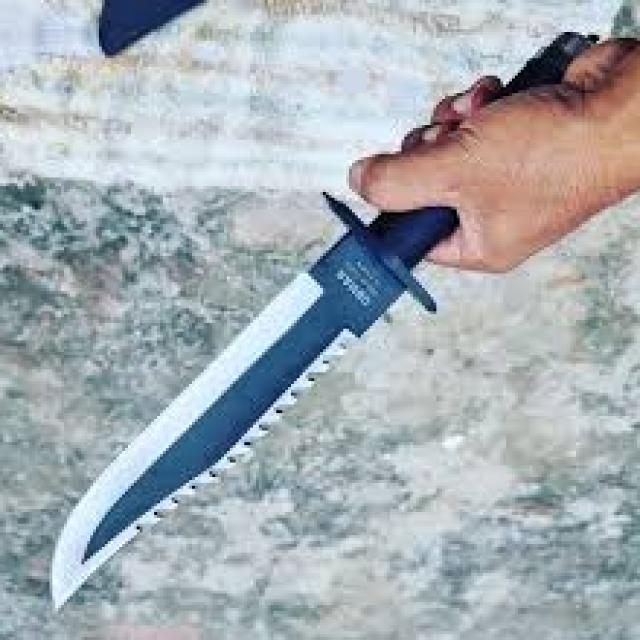Gun: (33, 17, 603, 614)
